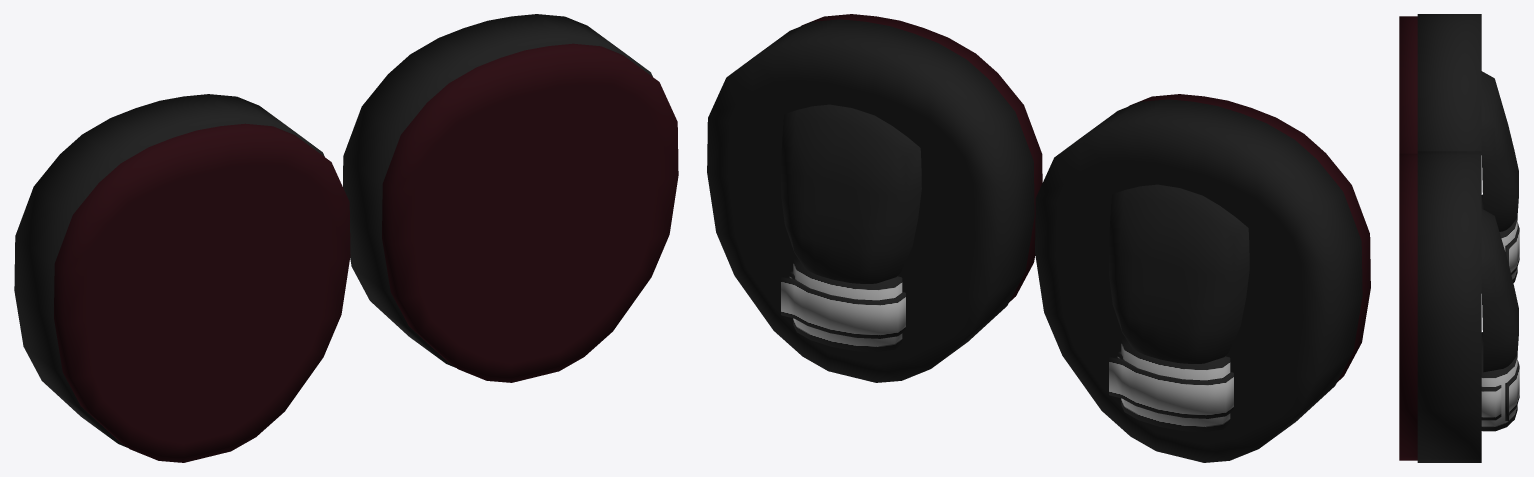
Rendered from mitts.fbx.
The picture shows the model from 3 angles, left to right: view 1: azimuth 30°, elevation 25°; view 2: azimuth 150°, elevation 25°; view 3: azimuth 270°, elevation 25°; orthographic projection. The views are drawn at different scales.
Visible parts, largest first — view 1: MItt02, MItt01; view 2: MItt02, MItt01; view 3: MItt01, MItt02.
Part boxes in pixels (x1,y1,x2,y2): MItt02: (14,94,350,462); MItt01: (343,14,678,382); MItt02: (1035,94,1370,462); MItt01: (707,14,1042,382); MItt01: (1399,151,1519,462); MItt02: (1399,14,1519,293).
Size of the model in its own units: 37.71 by 18.88 by 7.39.
